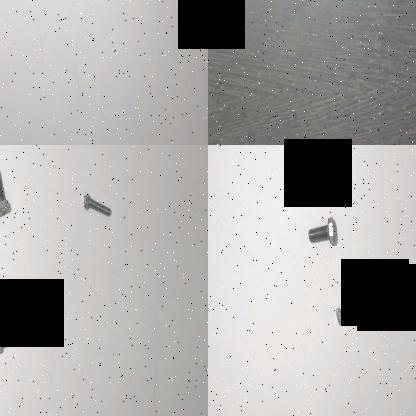Bolts: (307, 212, 337, 257), (332, 292, 366, 331), (79, 186, 111, 224), (326, 145, 350, 192), (0, 321, 26, 360), (0, 163, 10, 221)
NUTS: (228, 0, 246, 32)
